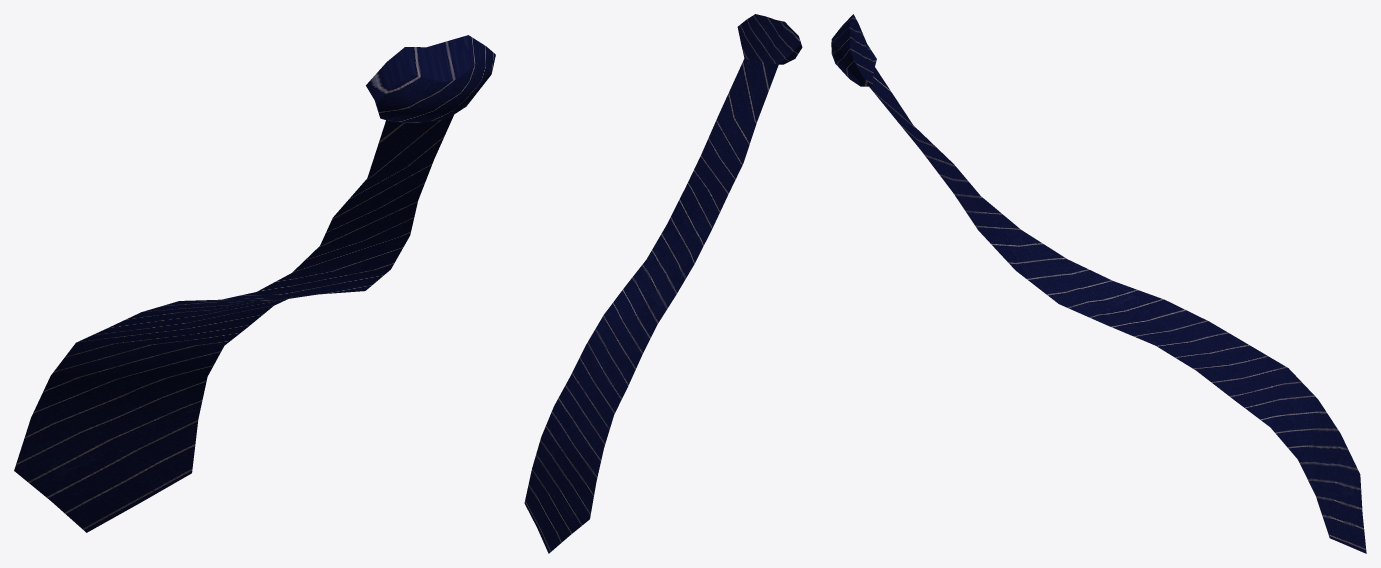
File: Pose-8_Tie-4.fbx
The picture shows the model from 3 angles, left to right: view 1: azimuth 30°, elevation 25°; view 2: azimuth 150°, elevation 25°; view 3: azimuth 270°, elevation 25°; orthographic projection. The views are drawn at different scales.
Visible parts, largest first — view 1: Pose-8_Tie-4; view 2: Pose-8_Tie-4; view 3: Pose-8_Tie-4.
Part boxes in pixels (left/top/right/bottom): Pose-8_Tie-4: left=14, top=35, right=495, bottom=532; Pose-8_Tie-4: left=524, top=14, right=802, bottom=553; Pose-8_Tie-4: left=831, top=14, right=1366, bottom=553.
Size of the model in its own units: 8.23 by 33.08 by 31.13.
